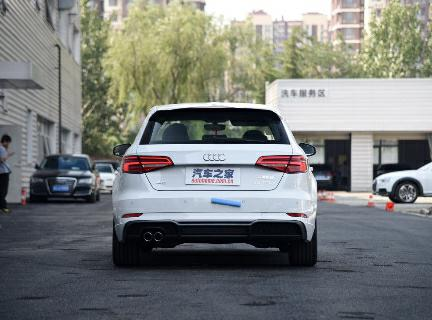奥迪-A4L: (99, 97, 328, 274)
